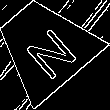N_NW: (13, 14, 76, 78)
